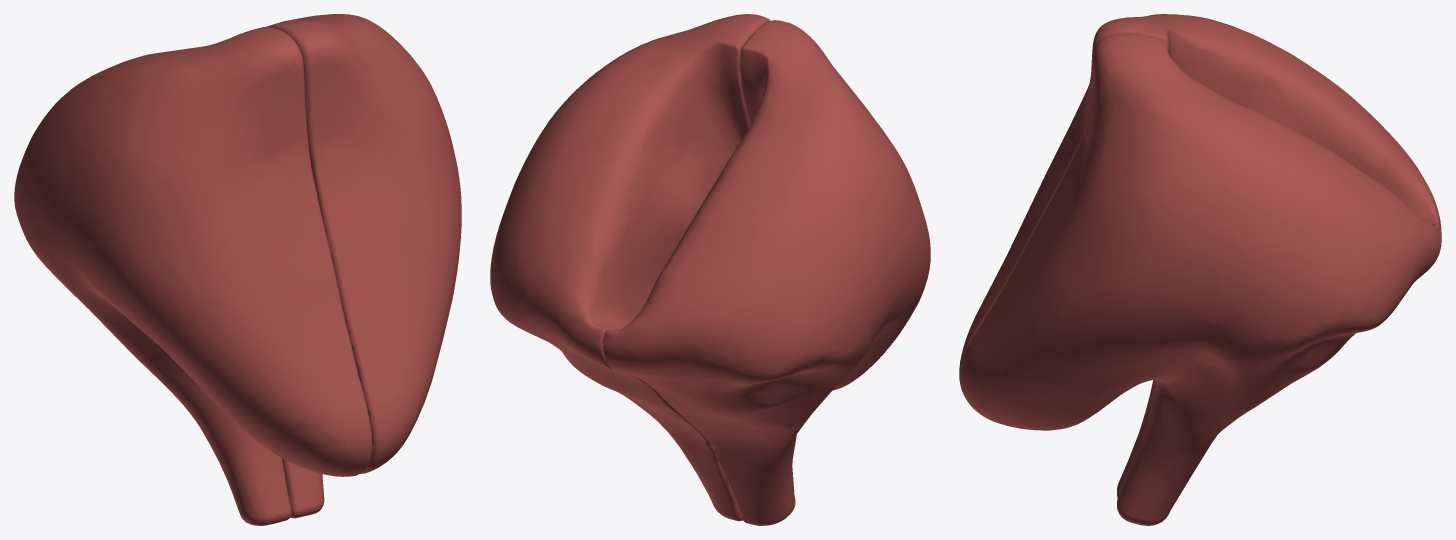
The model's file is FMA62008nsn.glb.
3 views of the same model, side by side, from view 1: azimuth 30°, elevation 25°; view 2: azimuth 150°, elevation 25°; view 3: azimuth 270°, elevation 25° (orthographic). The views are drawn at different scales.
Visible parts, largest first — view 1: FMA62008nsn; view 2: FMA62008nsn; view 3: FMA62008nsn.
Boxes of the visible parts, x1=… form: FMA62008nsn: x1=14, y1=14, x2=461, y2=525; FMA62008nsn: x1=490, y1=14, x2=930, y2=525; FMA62008nsn: x1=959, y1=14, x2=1441, y2=525.
Size of the model in its own units: 0.0144 by 0.0188 by 0.0169.
